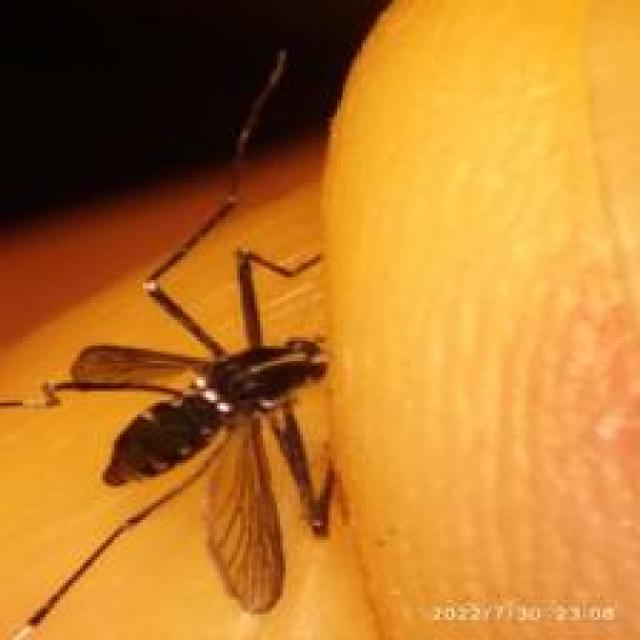Aedes albopictus: (0, 47, 340, 639)
